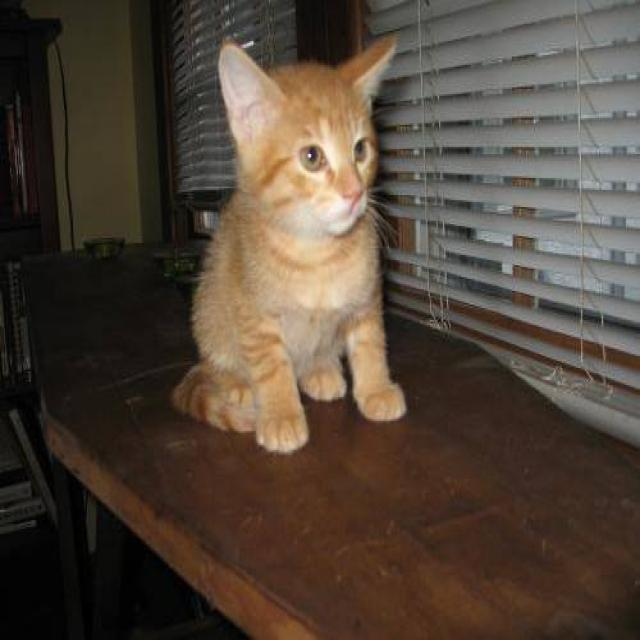cat: (169, 29, 408, 454)
